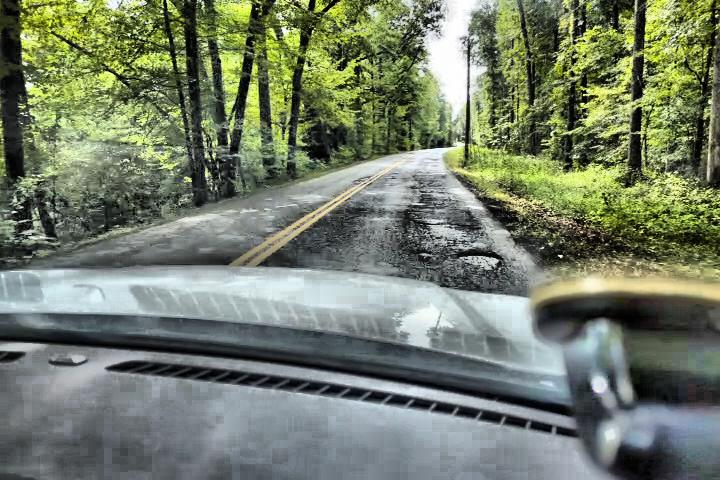pothole: (454, 243, 506, 279), (410, 246, 438, 262)
